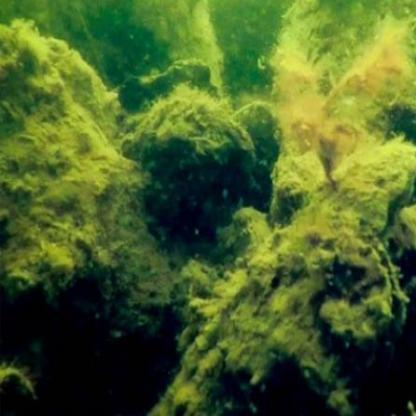Oyster- Indeterminate: (147, 202, 407, 416), (330, 148, 414, 235)
Oyster-Closed: (0, 23, 167, 346), (121, 92, 264, 245), (33, 29, 117, 139), (113, 64, 218, 117), (233, 106, 285, 211), (266, 153, 335, 226)
